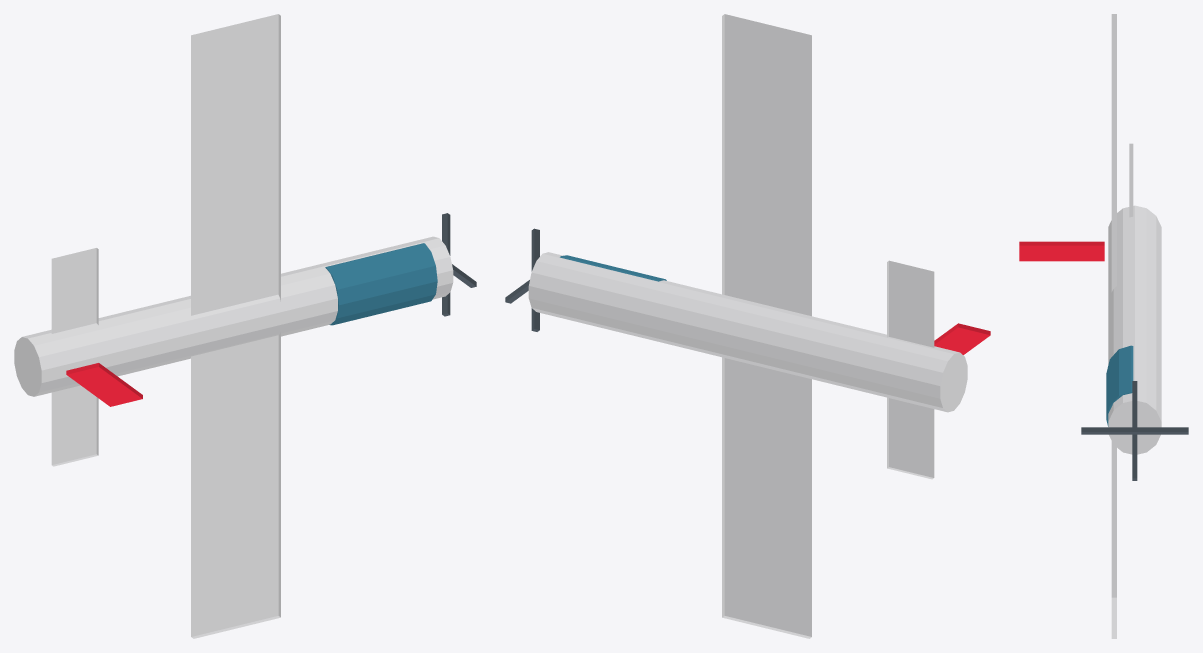
The picture shows the model from 3 angles, left to right: view 1: azimuth 30°, elevation 25°; view 2: azimuth 150°, elevation 25°; view 3: azimuth 270°, elevation 25°; orthographic projection. The views are drawn at different scales.
Visible parts, largest first — view 1: Cessna 152; view 2: Cessna 152; view 3: Cessna 152.
Boxes of the visible parts, <box> form: Cessna 152: <box>14,14,476,638</box>; Cessna 152: <box>505,14,990,638</box>; Cessna 152: <box>1019,14,1188,638</box>.
Bounding box in the file's own units: 7.47 × 10.2 × 2.68.
